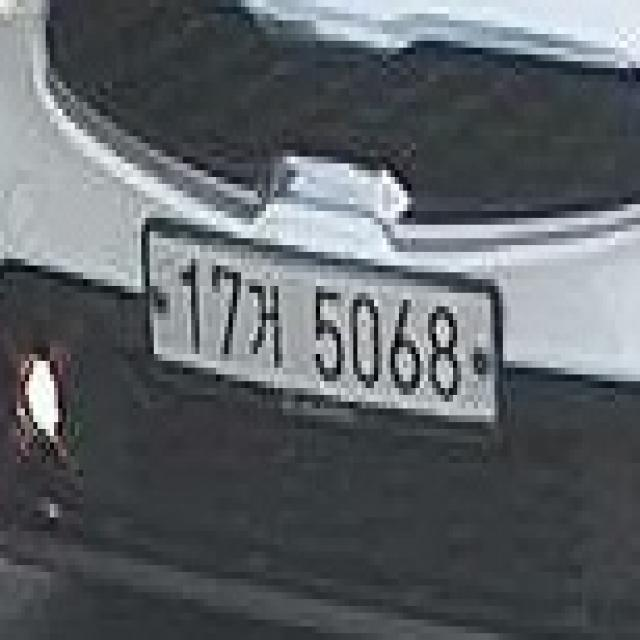0: (349, 279, 382, 395)
1: (170, 252, 208, 361)
5: (307, 272, 345, 388)
6: (382, 286, 428, 395)
7: (208, 252, 245, 368)
8: (424, 293, 465, 408)
geo: (249, 266, 287, 381)
license_plate: (137, 211, 507, 463)
